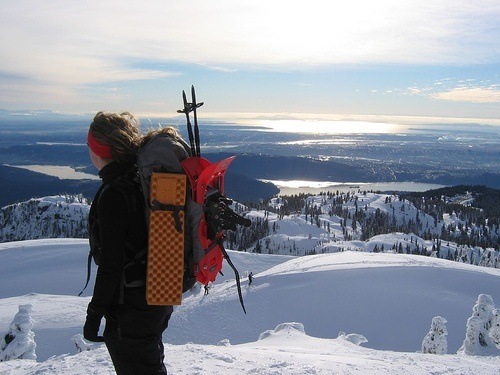head: (83, 107, 128, 171)
person: (74, 114, 198, 371), (247, 271, 252, 284)
